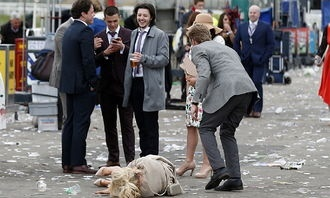falling: (83, 148, 185, 198)
